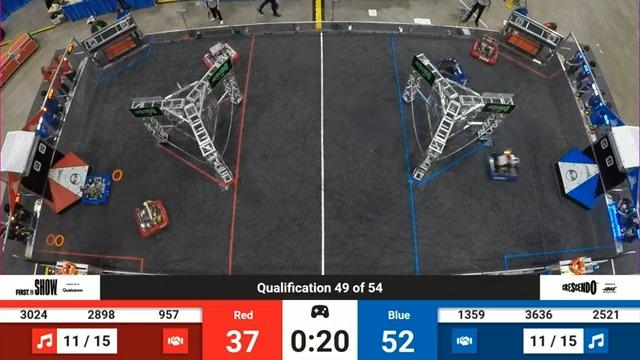robot: (132, 196, 177, 239), (481, 143, 524, 187), (198, 37, 248, 73), (425, 49, 471, 88), (76, 175, 118, 208), (467, 33, 504, 66)
